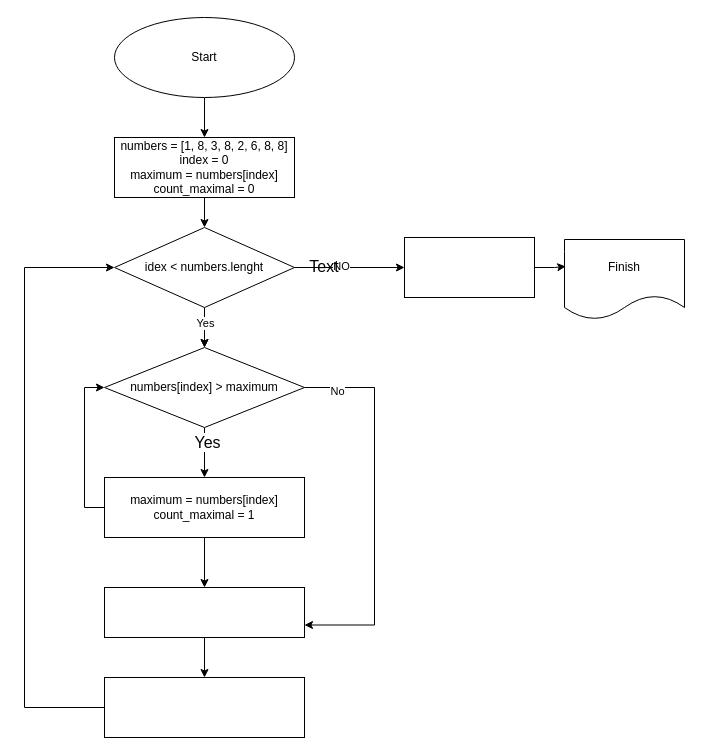
Some shapes in this 702 by 755 pixel diagram are drawn without their labels. The shapes that lost their labels are listed below. From the top down, each one's centre as x and y in pixels, then its label:
At point (469, 267): "print(count_maximal)".
At point (204, 612): "numbers[index] == maximum count_maximal = count_maximal + 1".
At point (204, 707): "index = index +1".
